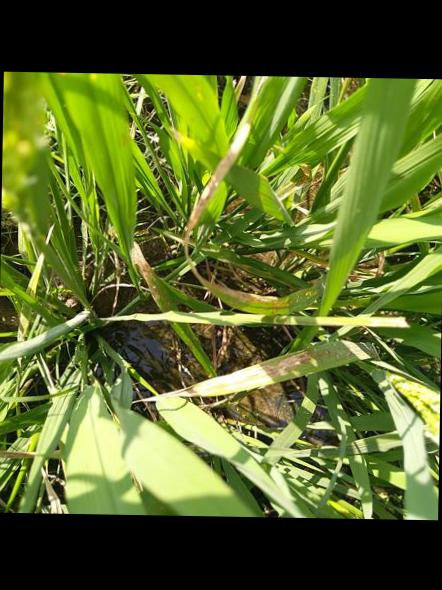Leaf Blight: (182, 132, 314, 313), (137, 337, 377, 401)
